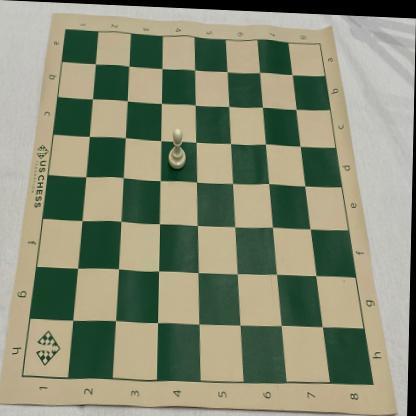white-pawn: (169, 124, 188, 169)
